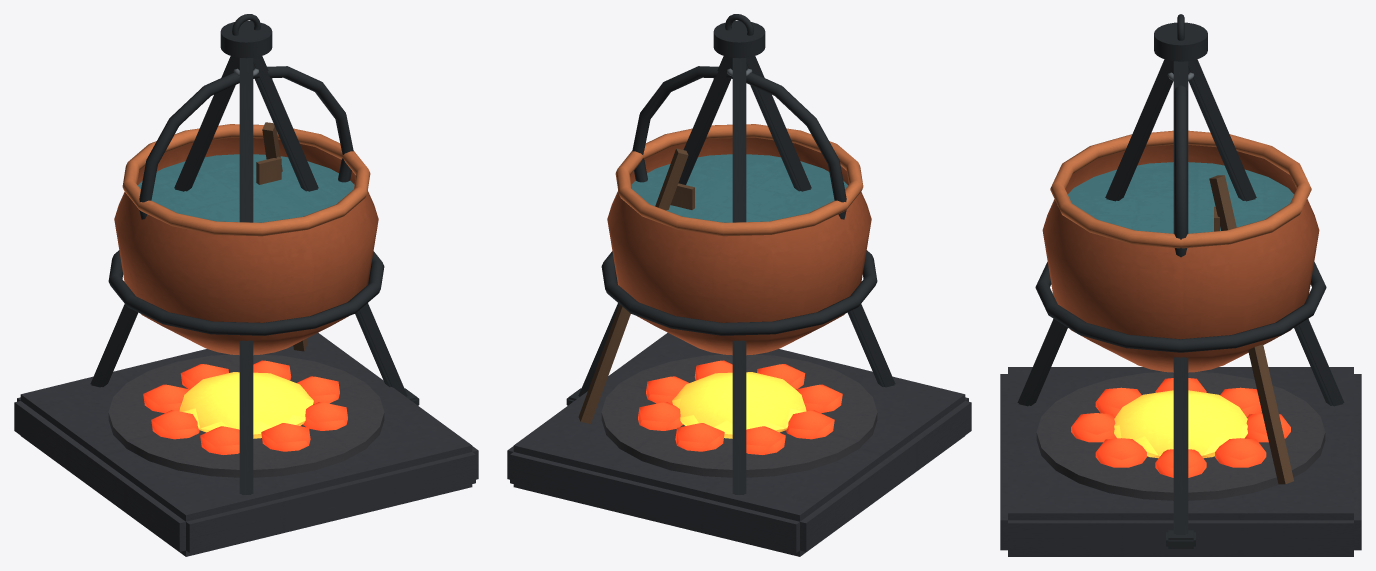
Rendered from cauldron_hearth_tripod.glb.
The picture shows the model from 3 angles, left to right: view 1: azimuth 30°, elevation 25°; view 2: azimuth 150°, elevation 25°; view 3: azimuth 270°, elevation 25°; orthographic projection. The views are drawn at different scales.
Visible parts, largest first — view 1: cauldron_hearth_tripod; view 2: cauldron_hearth_tripod; view 3: cauldron_hearth_tripod.
Part boxes in pixels (left/top/right/bottom): cauldron_hearth_tripod: left=14, top=14, right=478, bottom=556; cauldron_hearth_tripod: left=507, top=14, right=971, bottom=556; cauldron_hearth_tripod: left=1000, top=14, right=1361, bottom=556.
Size of the model in its own units: 1.27 by 1.72 by 1.2.
1 material, 1 textured.
